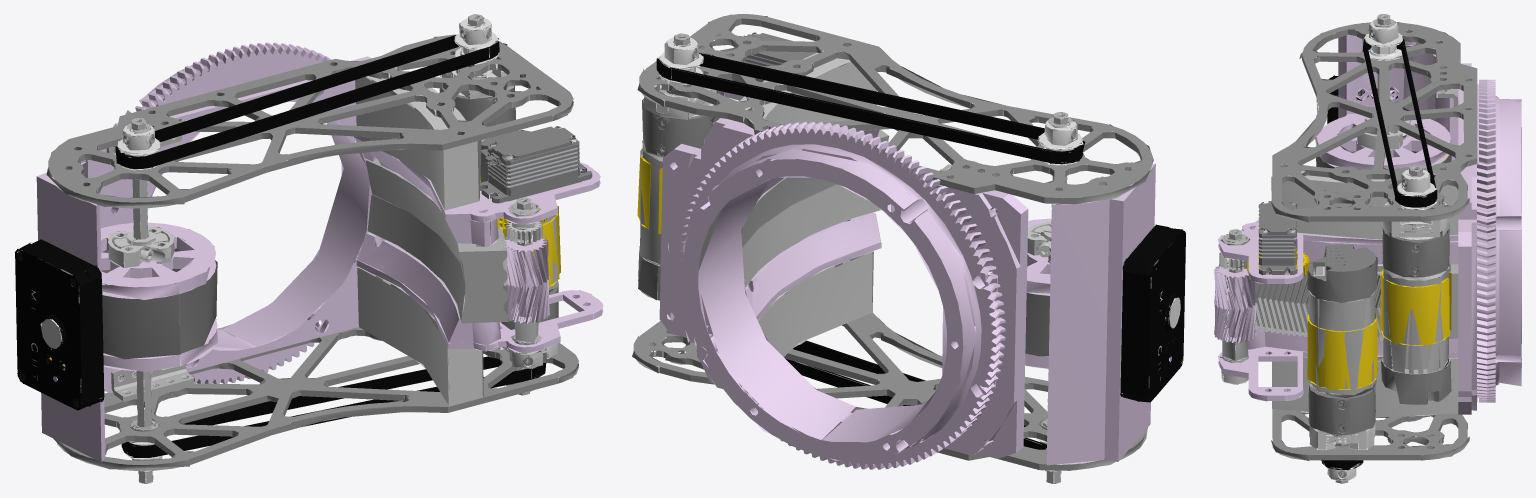
The model's file is Turret.glb.
3 renders of one model, left to right at view 1: azimuth 30°, elevation 25°; view 2: azimuth 150°, elevation 25°; view 3: azimuth 270°, elevation 25°, orthographic. The views are drawn at different scales.
Visible parts, largest first — view 1: Side plates; view 2: Side plates; view 3: Side plates.
Boxes of the visible parts, x1,y1,x2,y2 form: Side plates: [15, 14, 603, 483]; Side plates: [632, 14, 1185, 483]; Side plates: [1214, 14, 1521, 483].
Bounding box in the file's own units: 0.2803 × 0.1945 × 0.1653.
